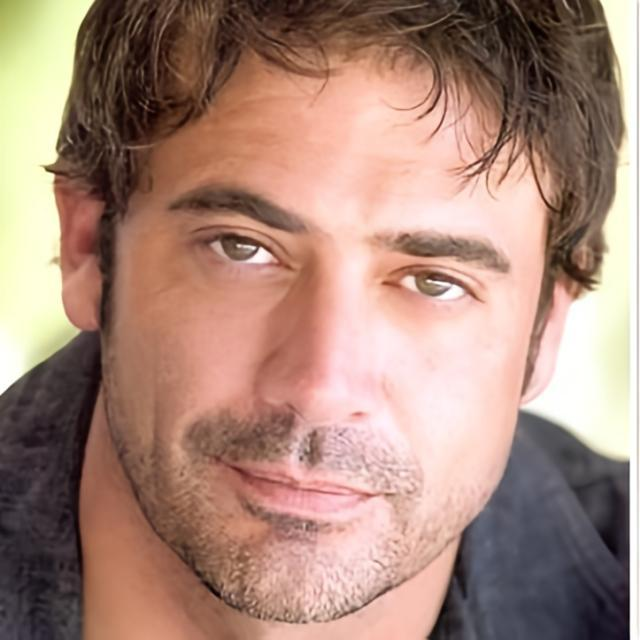content: (100, 0, 552, 625)
